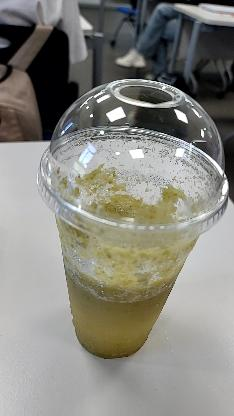Plastic Cup: (38, 72, 230, 370), (38, 74, 234, 248)
